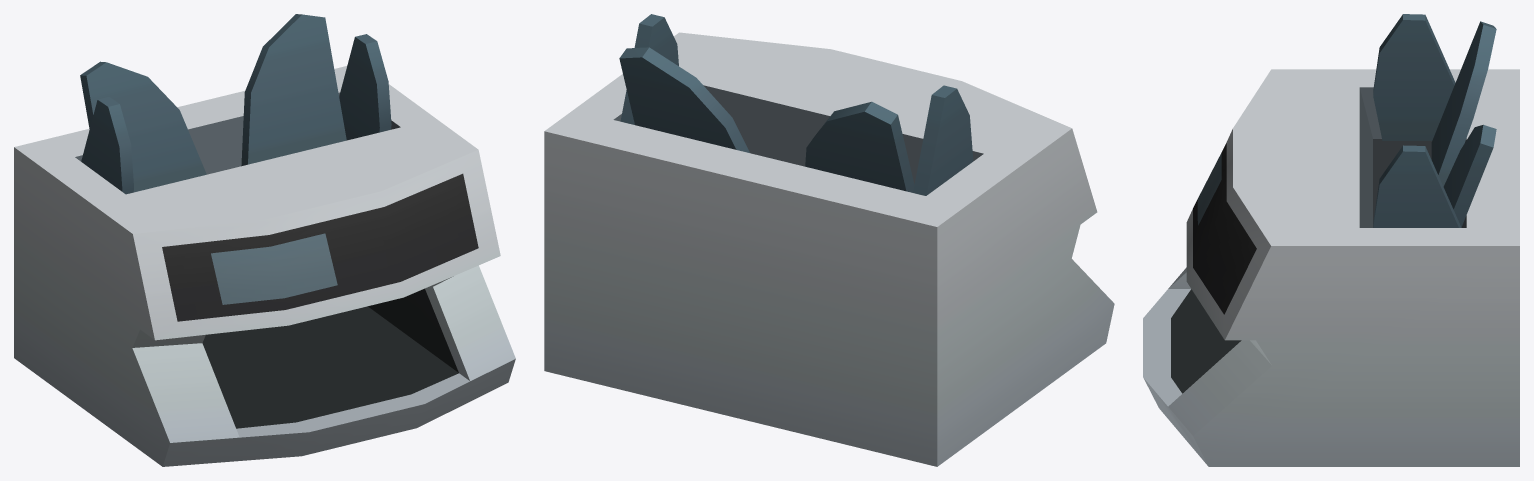
Rendered from casino-assets-glb-cash-machine-01.glb.
3 renders of one model, left to right at view 1: azimuth 30°, elevation 25°; view 2: azimuth 150°, elevation 25°; view 3: azimuth 270°, elevation 25°, orthographic. The views are drawn at different scales.
Parts seen in each view (by area): view 1: Cash_Machine_01; view 2: Cash_Machine_01; view 3: Cash_Machine_01.
Part boxes in pixels (<box>): Cash_Machine_01: <box>14,14,515,466</box>; Cash_Machine_01: <box>544,14,1114,466</box>; Cash_Machine_01: <box>1143,14,1519,466</box>.
Bounding box in the file's own units: 0.4364 × 0.3502 × 0.3935.
1 material, 1 textured.
